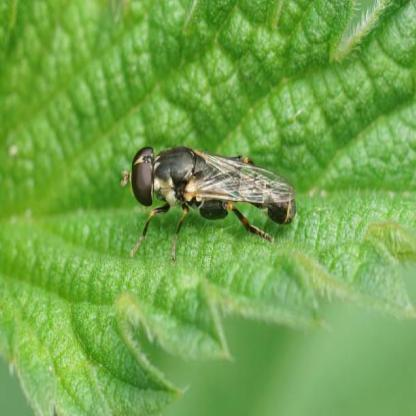sawfly: (125, 140, 303, 252)
